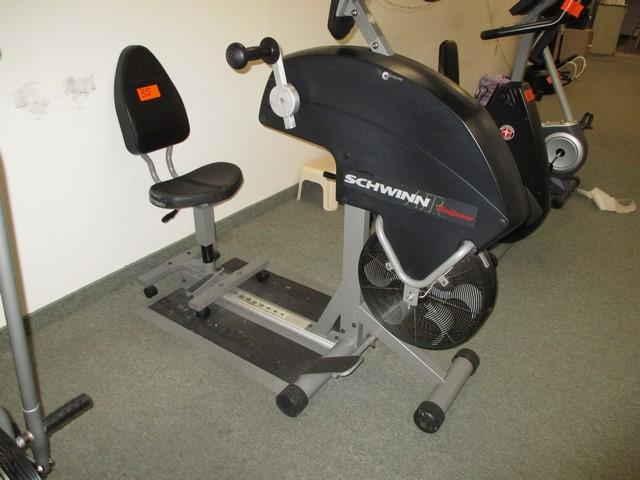gym_bike: (105, 19, 546, 416)
